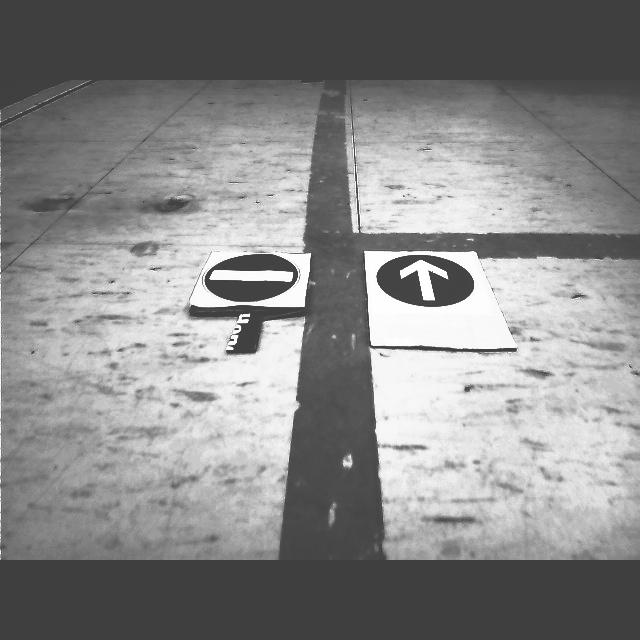GO FORWARD: (377, 254, 474, 308)
NO ENTRY: (205, 254, 298, 301)
